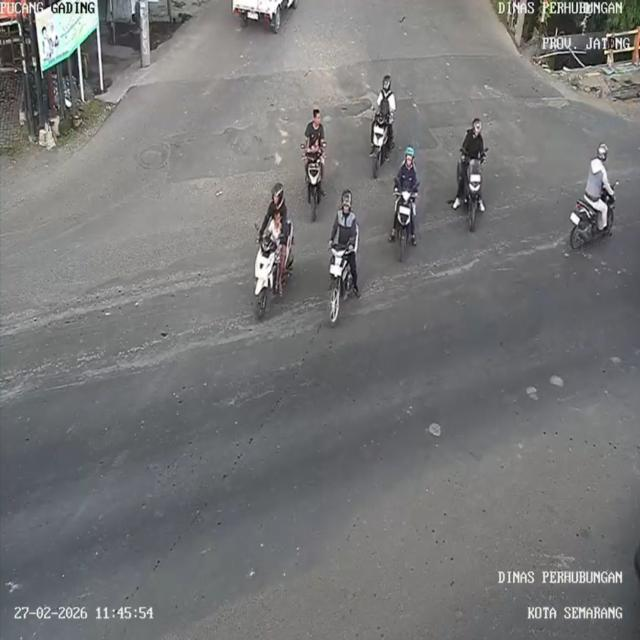motorcycle: (244, 234, 293, 319), (322, 239, 362, 326), (571, 189, 616, 250), (388, 190, 422, 266), (364, 111, 391, 178), (464, 159, 486, 232), (304, 156, 327, 224)
person: (328, 187, 361, 259), (261, 186, 295, 254), (580, 141, 613, 207), (393, 148, 420, 201), (460, 118, 488, 165), (303, 108, 330, 156), (373, 75, 397, 124), (265, 211, 287, 252), (308, 134, 324, 154)
rider_region: (249, 182, 296, 317), (568, 143, 620, 253), (323, 188, 362, 327), (454, 116, 490, 234), (387, 146, 422, 264), (301, 108, 328, 228), (364, 78, 396, 178)
